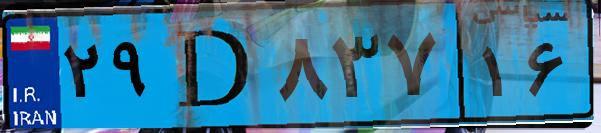1: (475, 38, 525, 113)
2: (57, 26, 110, 100)
3: (330, 28, 385, 110)
6: (525, 38, 570, 115)
7: (385, 28, 445, 110)
8: (270, 28, 330, 110)
9: (110, 28, 158, 98)
D: (158, 12, 270, 120)
